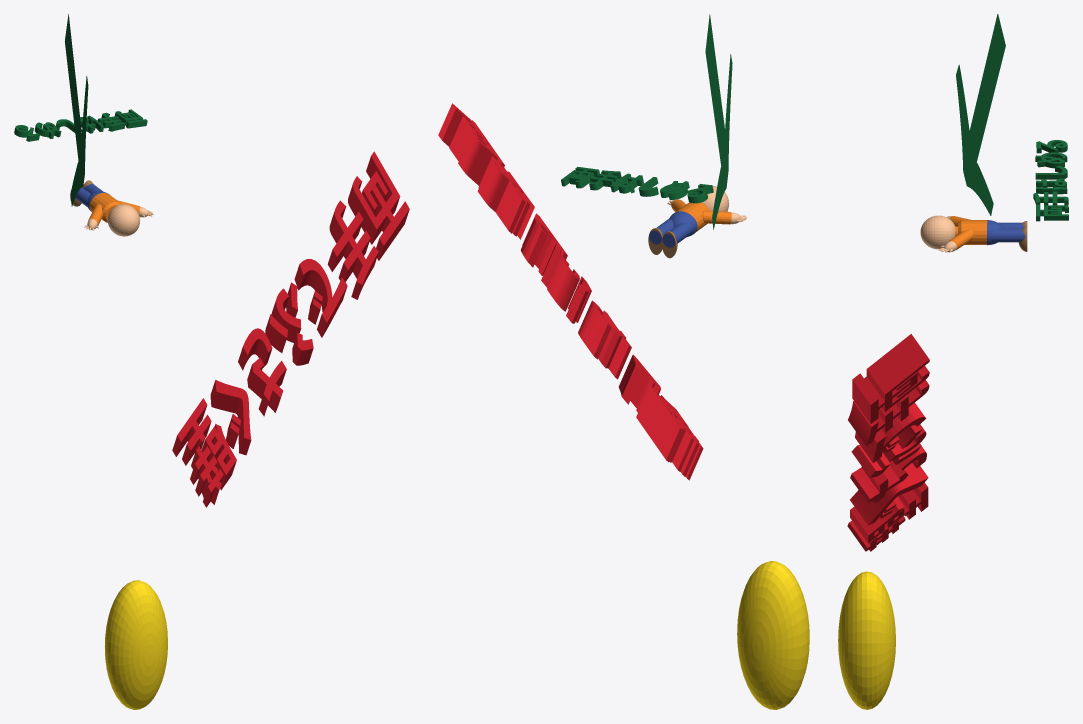
Rendered from tinker.obj.
The picture shows the model from 3 angles, left to right: view 1: azimuth 30°, elevation 25°; view 2: azimuth 150°, elevation 25°; view 3: azimuth 270°, elevation 25°; orthographic projection. The views are drawn at different scales.
Parts seen in each view (by area): view 1: group_0_15277357, group_0_16768282, group_0_1206582, group_0_16500122, group_0_16089887; view 2: group_0_15277357, group_0_16768282, group_0_1206582, group_0_3888547, group_0_16089887; view 3: group_0_15277357, group_0_16768282, group_0_1206582, group_0_16500122, group_0_16089887, group_0_3888547.
Boxes of the visible parts, x1=… form: group_0_15277357: x1=172, y1=151, x2=409, y2=507; group_0_16768282: x1=104, y1=580, x2=167, y2=709; group_0_1206582: x1=14, y1=14, x2=147, y2=206; group_0_16500122: x1=84, y1=204, x2=153, y2=236; group_0_16089887: x1=88, y1=193, x2=140, y2=225; group_0_15277357: x1=438, y1=103, x2=703, y2=480; group_0_16768282: x1=737, y1=561, x2=809, y2=709; group_0_1206582: x1=561, y1=14, x2=732, y2=229; group_0_3888547: x1=649, y1=211, x2=697, y2=247; group_0_16089887: x1=671, y1=199, x2=731, y2=231; group_0_15277357: x1=847, y1=334, x2=929, y2=551; group_0_16768282: x1=838, y1=571, x2=895, y2=709; group_0_1206582: x1=956, y1=14, x2=1068, y2=221; group_0_16500122: x1=920, y1=215, x2=957, y2=252; group_0_16089887: x1=949, y1=216, x2=987, y2=249; group_0_3888547: x1=987, y1=220, x2=1025, y2=245.
Size of the model in its own units: 121 by 250 by 75.65.
